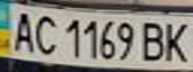1: (78, 16, 100, 60), (60, 15, 81, 57)
6: (96, 17, 121, 61)
9: (115, 18, 139, 62)
A: (6, 8, 39, 53)
B: (136, 19, 169, 62)
C: (30, 11, 60, 56)
K: (157, 18, 193, 63)
